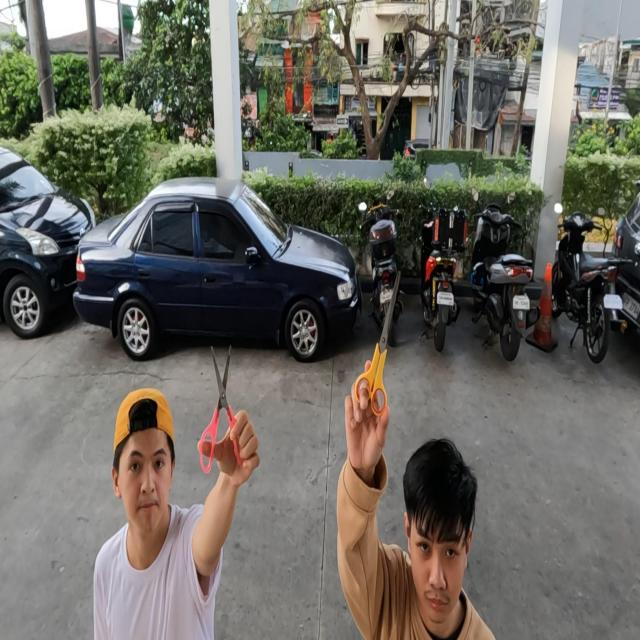scissor: (355, 270, 401, 416), (200, 344, 248, 474)
